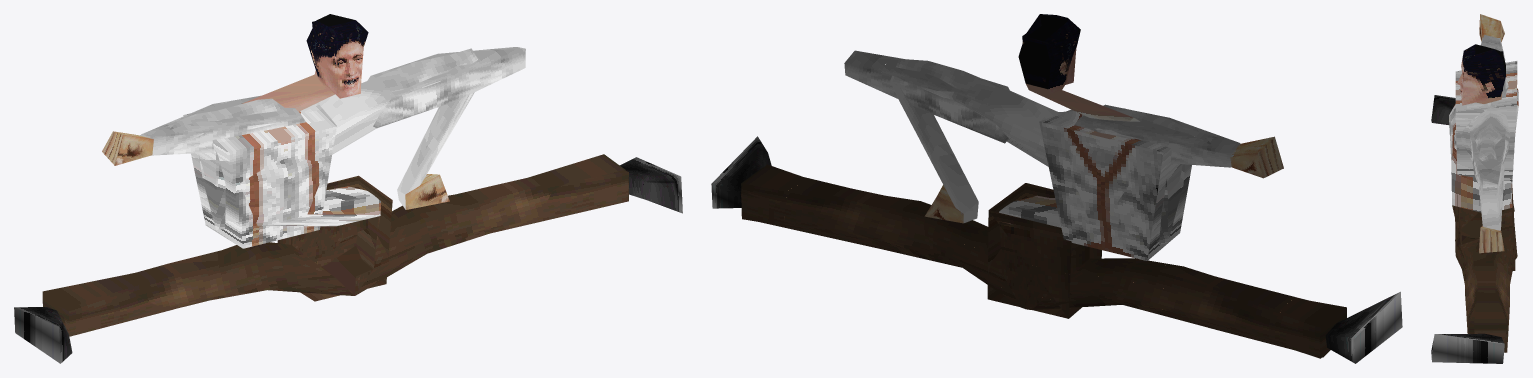
File: CjawsZ.obj
The picture shows the model from 3 angles, left to right: view 1: azimuth 30°, elevation 25°; view 2: azimuth 150°, elevation 25°; view 3: azimuth 270°, elevation 25°; orthographic projection. The views are drawn at different scales.
Size of the model in its own units: 2598 by 1054 by 403.
22 materials, 22 textured.
